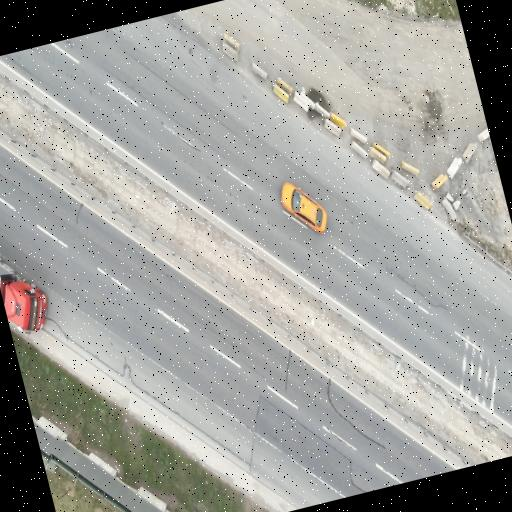car: (281, 183, 327, 232)
truck: (0, 259, 47, 334)
